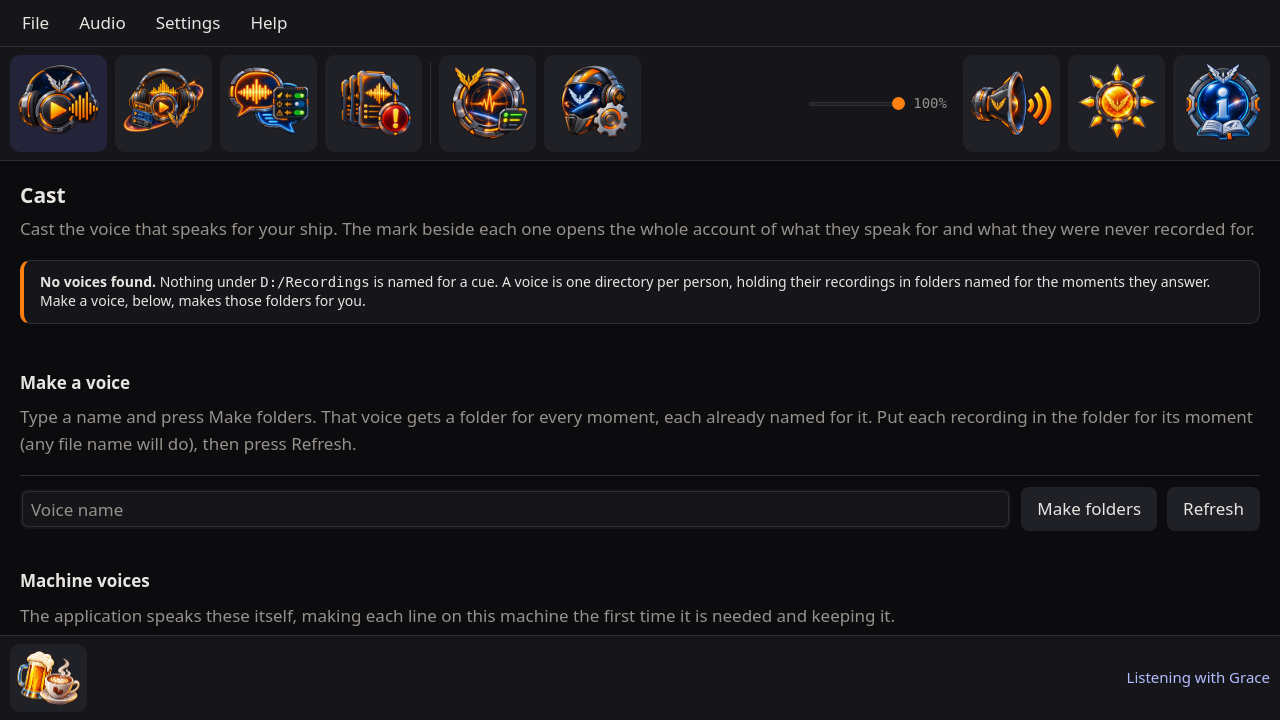
the shell › opens the Chatter pane from the band
Expected: the heading "Cast" is shown, [20,181,66,209]
Click the button named "Chatter" at (268, 104), box [220,55,317,152]
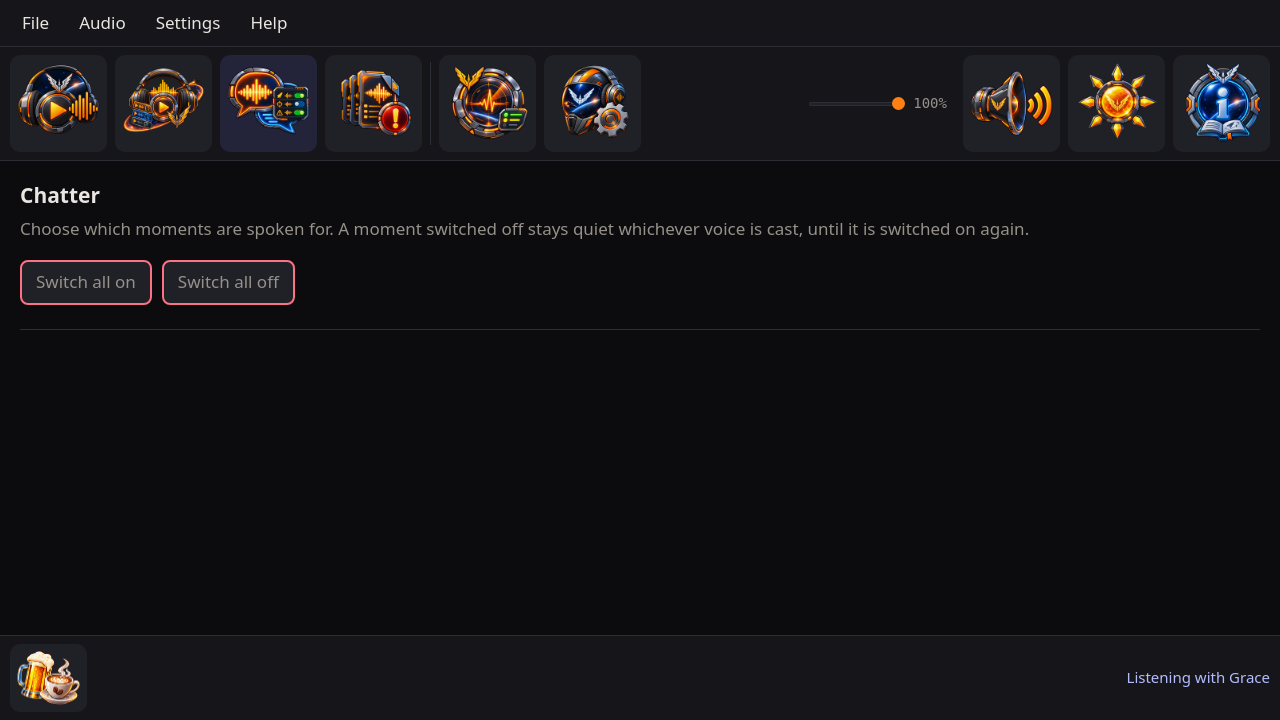
Now the heading "Chatter" is shown, box [20,181,100,209]
